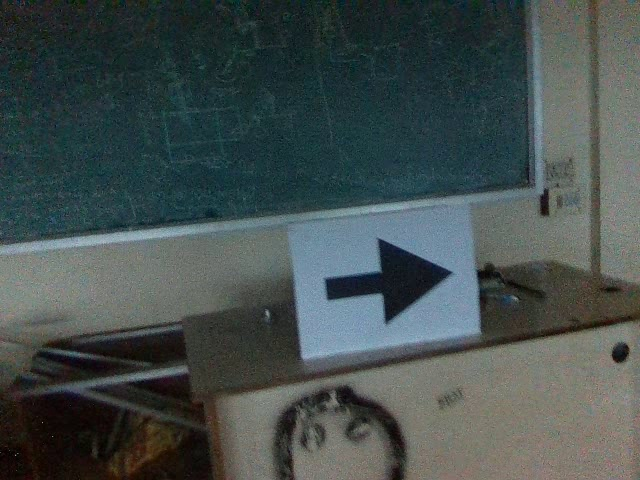Right: (321, 238, 456, 325)
